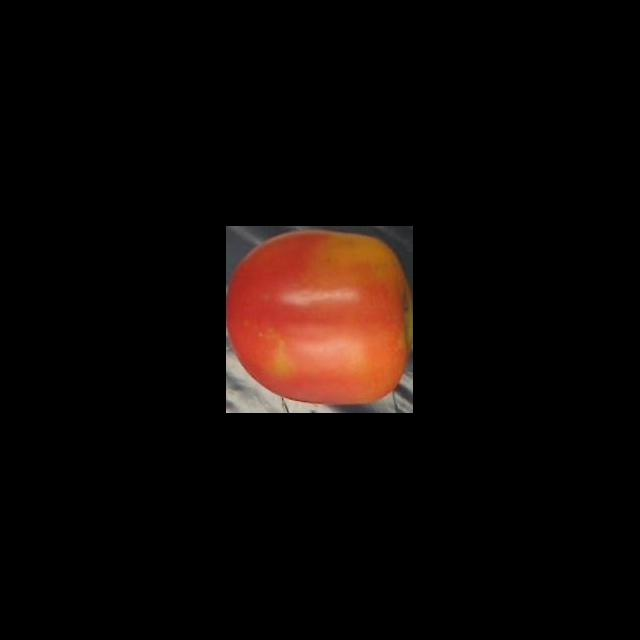tomato: (228, 228, 414, 408)
